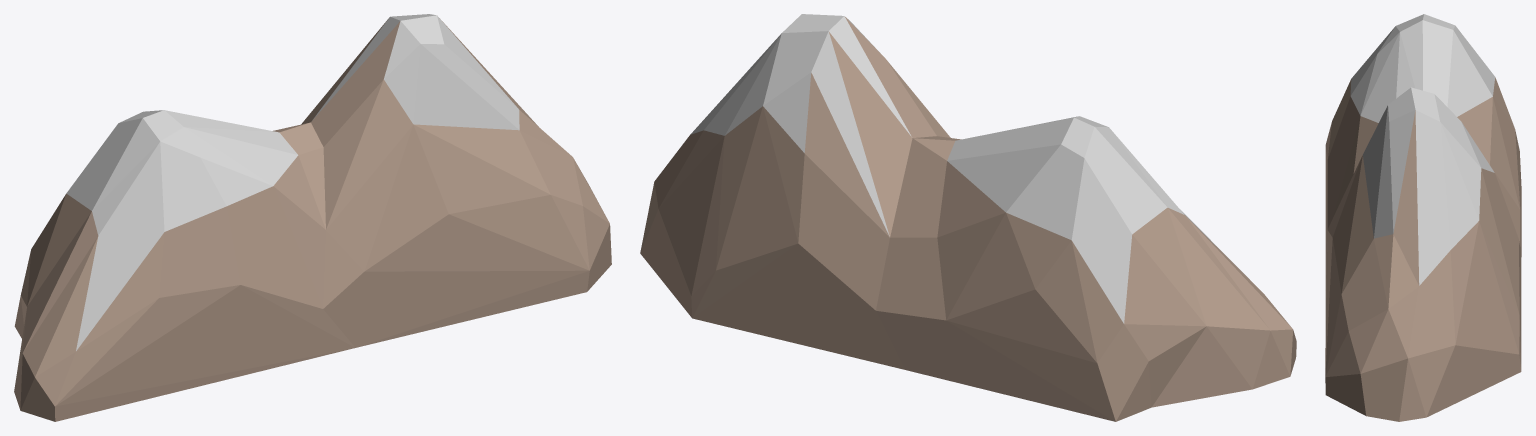
Rendered from mountain3.fbx.
3 renders of one model, left to right at view 1: azimuth 30°, elevation 25°; view 2: azimuth 150°, elevation 25°; view 3: azimuth 270°, elevation 25°, orthographic. The views are drawn at different scales.
Parts seen in each view (by area): view 1: Plane; view 2: Plane; view 3: Plane.
Part boxes in pixels (x1,y1,x2,y2): Plane: [14, 14, 611, 421]; Plane: [640, 14, 1296, 421]; Plane: [1325, 14, 1521, 421].
Size of the model in its own units: 13 by 5.56 by 4.01.
